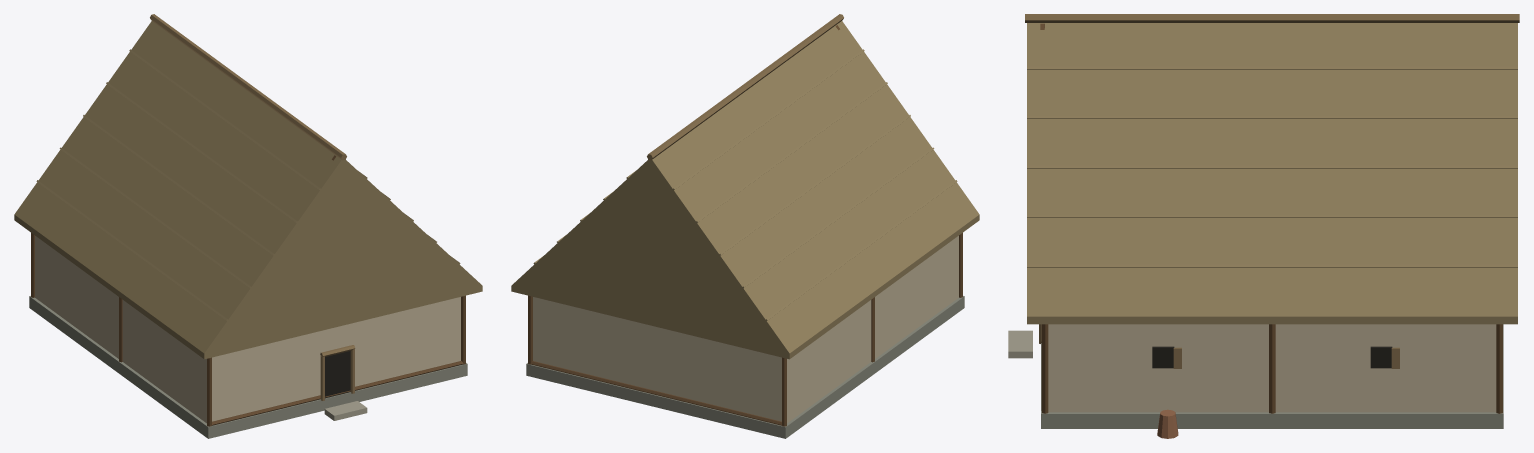
File: market_hall.glb
3 views of the same model, side by side, from view 1: azimuth 30°, elevation 25°; view 2: azimuth 150°, elevation 25°; view 3: azimuth 270°, elevation 25° (orthographic). The views are drawn at different scales.
Visible parts, largest first — view 1: market_hall; view 2: market_hall; view 3: market_hall.
Boxes of the visible parts, x1,y1,x2,y2 form: market_hall: (14,14,482,438); market_hall: (511,14,979,438); market_hall: (1008,14,1519,438).
Bounding box in the file's own units: 11.42 × 9.7 × 13.51.
